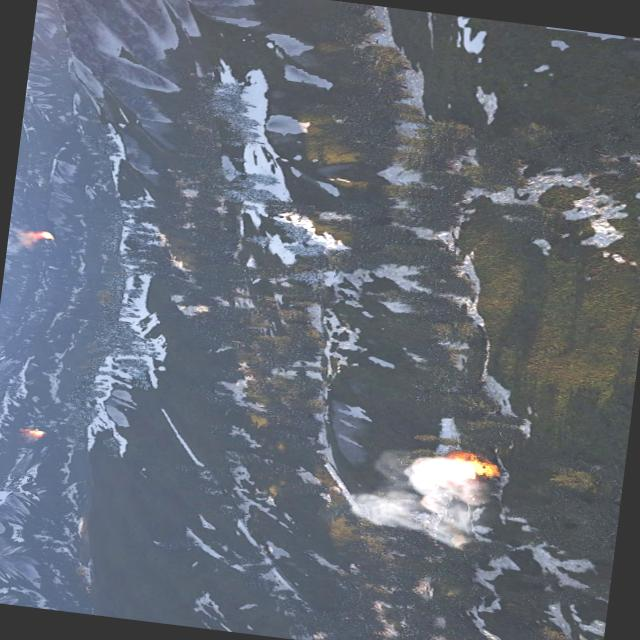fire: (444, 454, 498, 484), (34, 228, 54, 240), (26, 426, 44, 436)
smoke: (341, 444, 499, 550), (6, 226, 35, 255)
